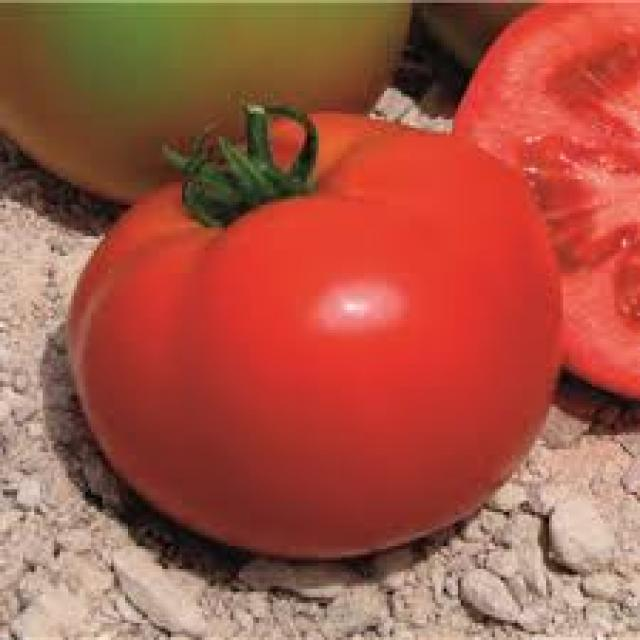organic waste: (66, 102, 560, 560), (0, 0, 415, 210), (447, 0, 637, 398)
